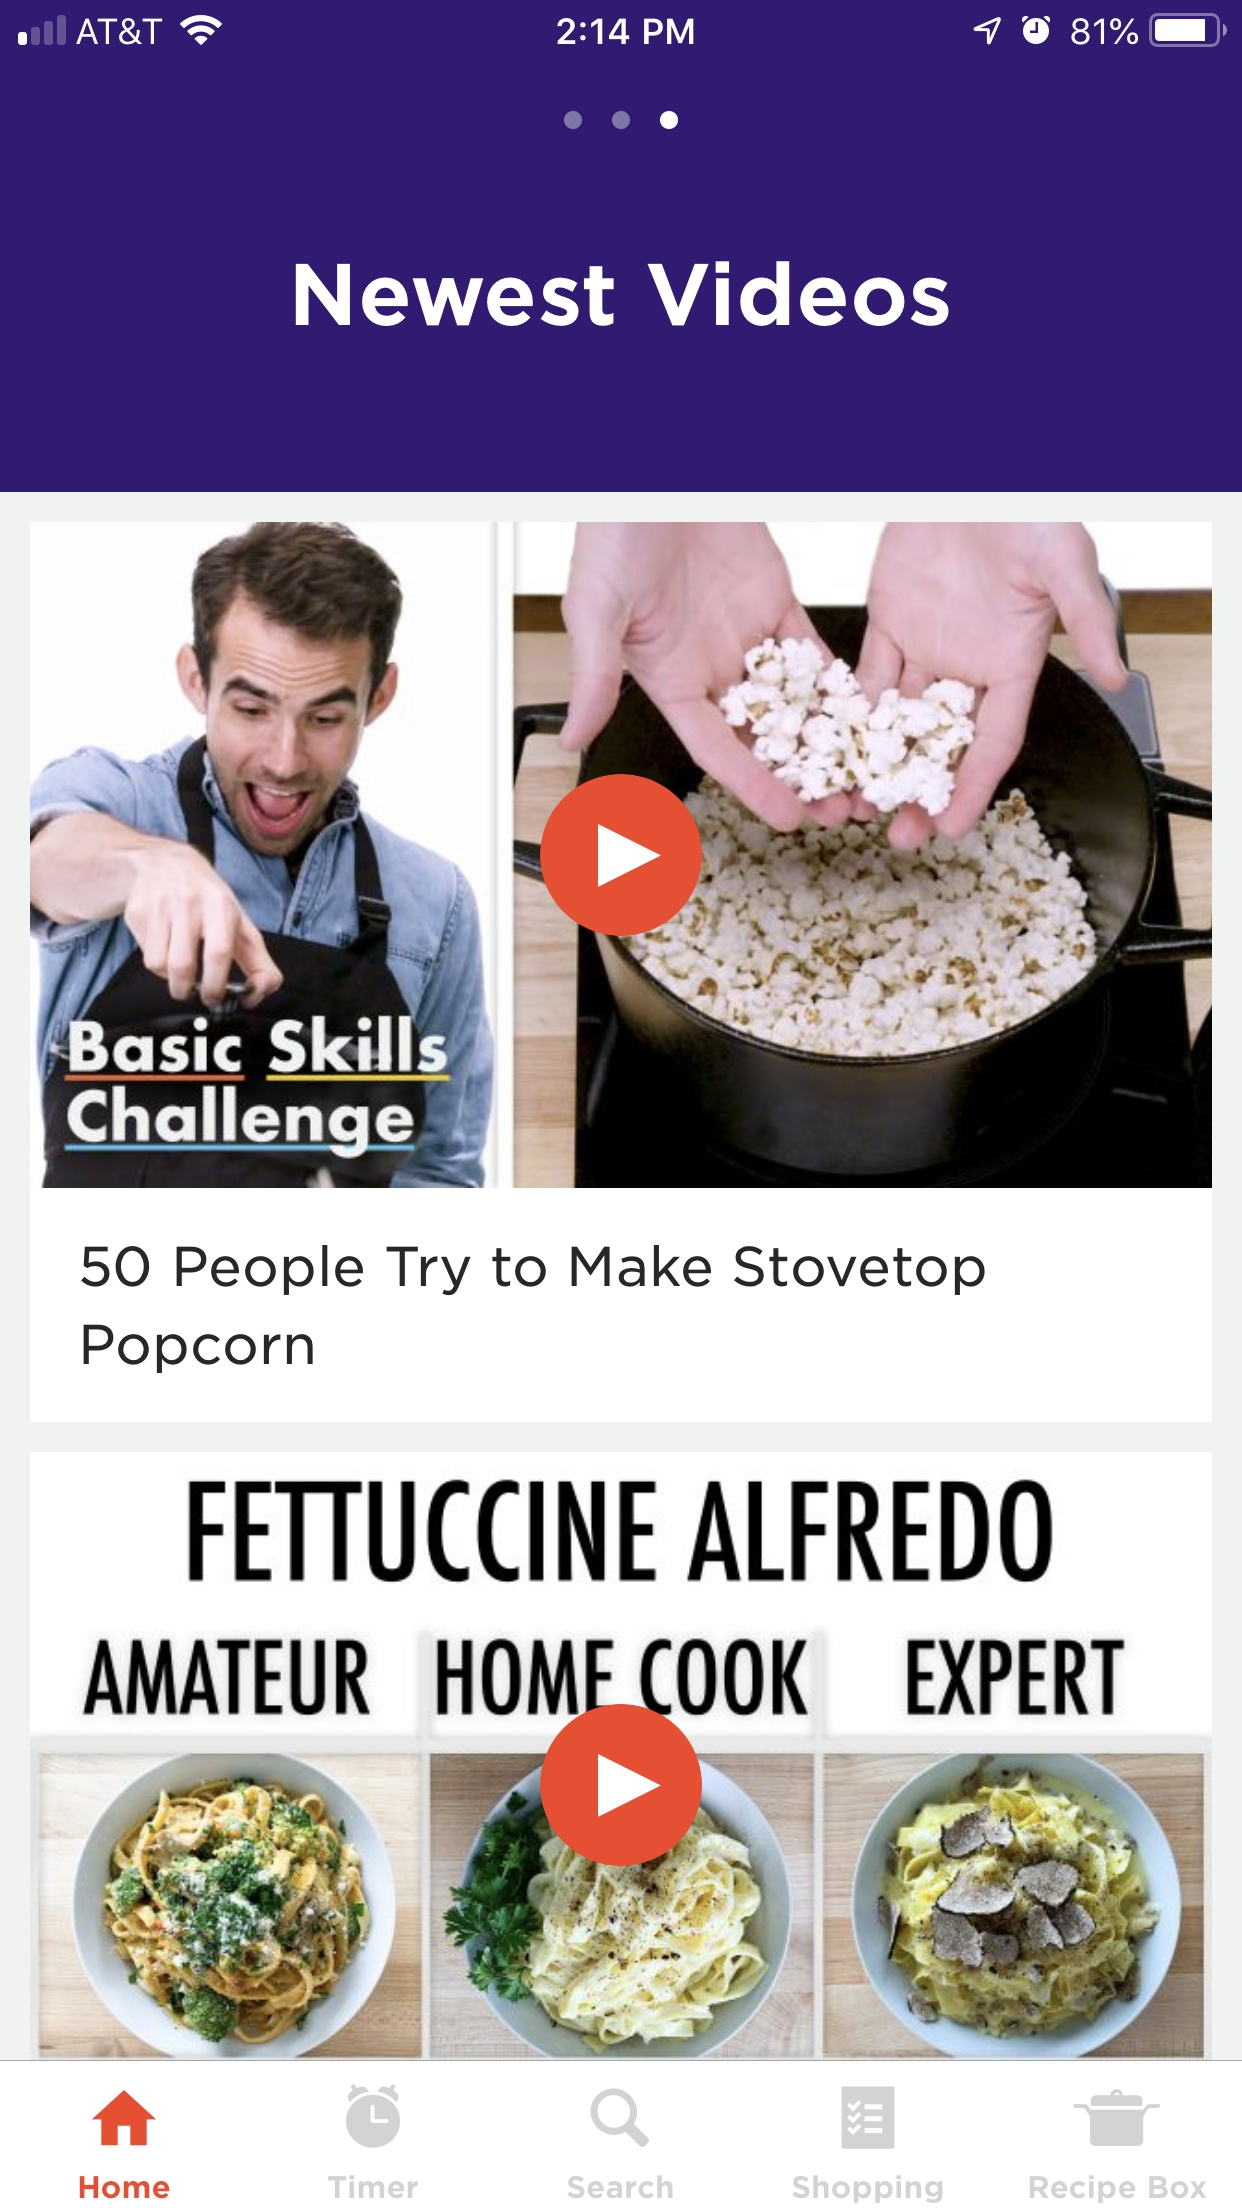Icon: (540, 773, 704, 937), (540, 1705, 704, 1867), (93, 2090, 158, 2146), (590, 2088, 651, 2147), (346, 2084, 400, 2149), (842, 2087, 895, 2150)
Image: (513, 523, 1213, 1189), (30, 522, 497, 1189), (823, 1753, 1206, 2059), (431, 1755, 814, 2059), (39, 1755, 422, 2059), (1074, 2088, 1162, 2147)
PageIndicator: (563, 111, 679, 130)
Text: (80, 1244, 986, 1374), (188, 1479, 1054, 1585), (64, 1015, 452, 1160), (296, 261, 949, 328), (437, 1636, 808, 1717), (82, 1638, 370, 1714), (905, 1638, 1125, 1717), (1030, 2175, 1207, 2203), (792, 2175, 943, 2203), (567, 2175, 673, 2199), (80, 2175, 171, 2199), (328, 2175, 419, 2199)
UpperTaskBar: (2, 2, 1242, 49)
